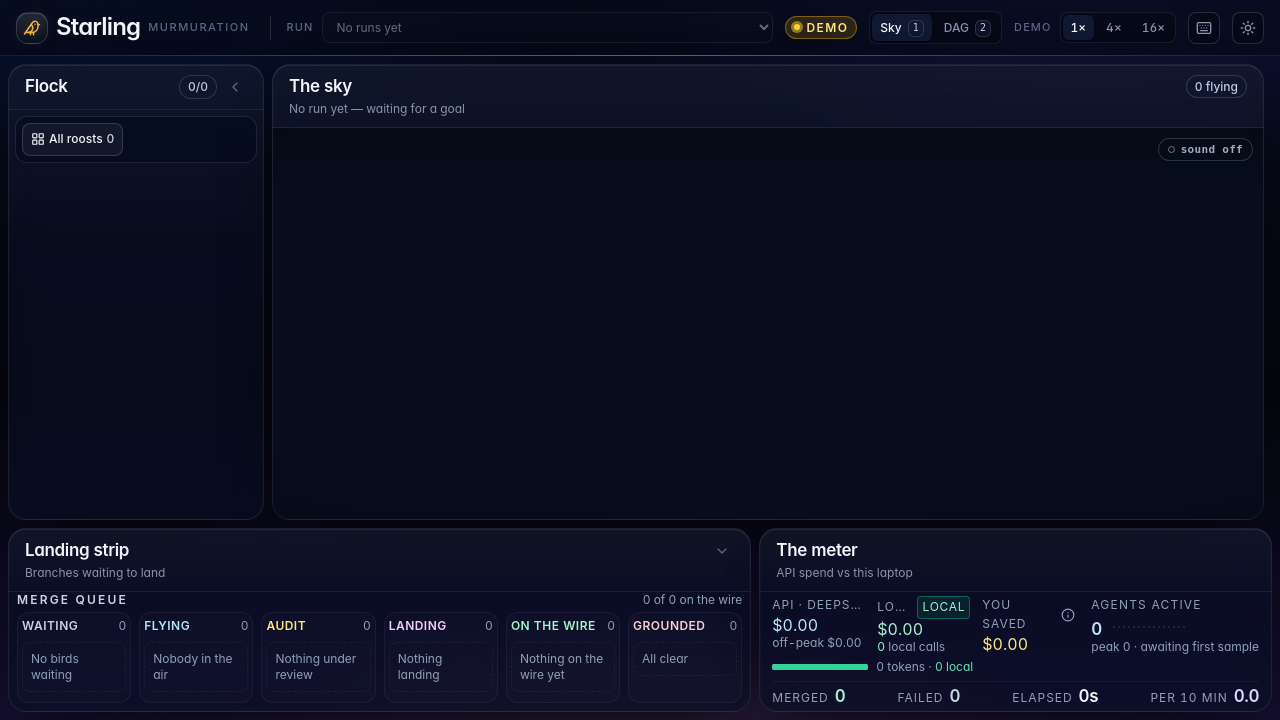
Test: Layout regions › collapses the flock region and brings it back
Click the button named "Collapse the flock region". click: (235, 87)
box: left=223, top=75, right=247, bottom=99
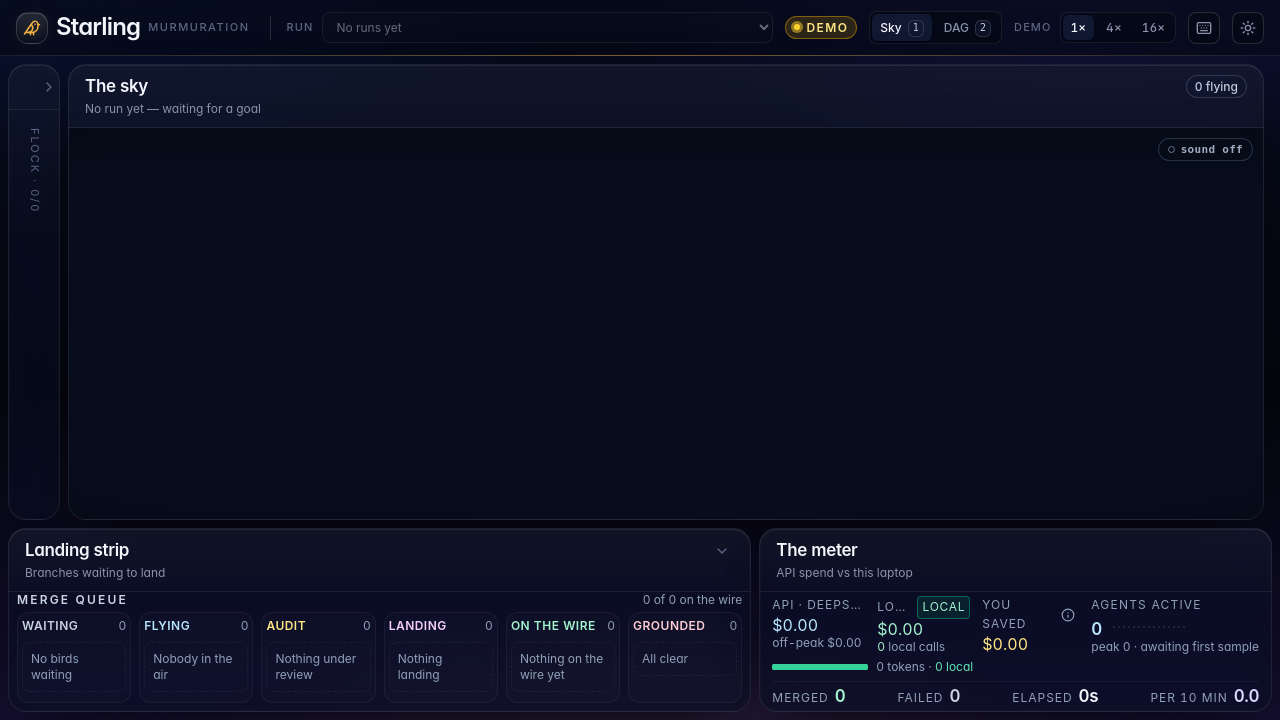
Now the button named "Expand the flock region" is collapsed
Now the element with test id "flock-panel" is gone
Now the text "Flock · 0/0" is shown, box left=26, top=128, right=42, bottom=213
Click the button named "Expand the flock region". click: (49, 87)
box: left=37, top=75, right=61, bottom=99
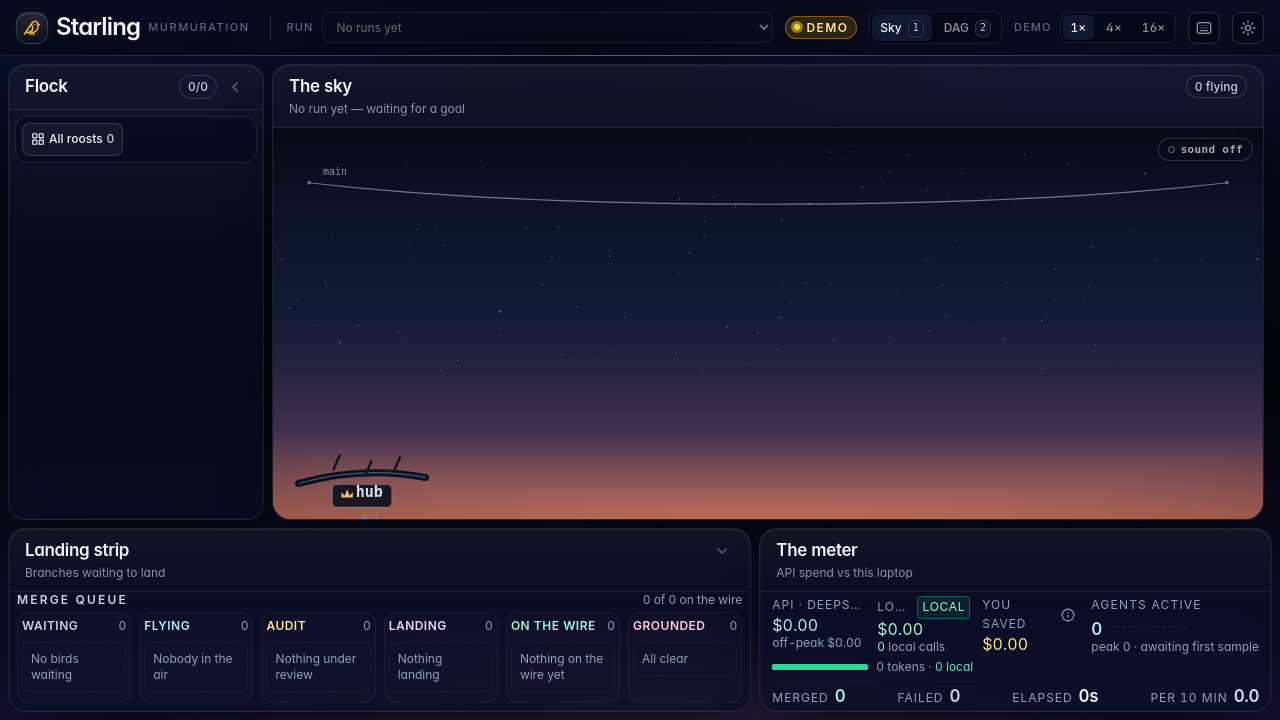
Now the element with test id "flock-panel" is shown, box left=15, top=116, right=257, bottom=163
